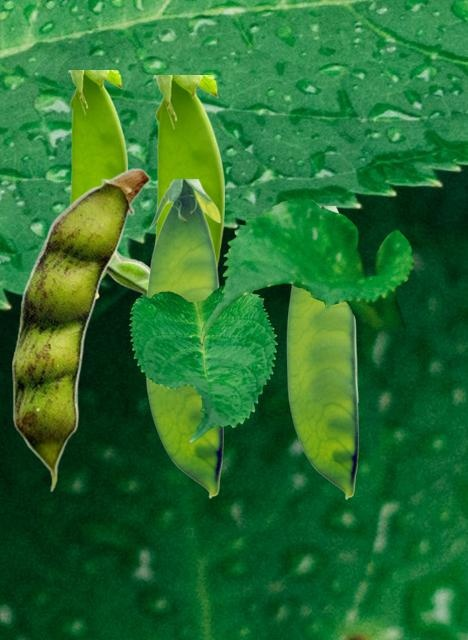pea: (12, 167, 150, 491), (145, 179, 222, 497), (286, 206, 357, 498), (152, 75, 223, 270), (67, 70, 126, 298), (31, 249, 149, 294)
